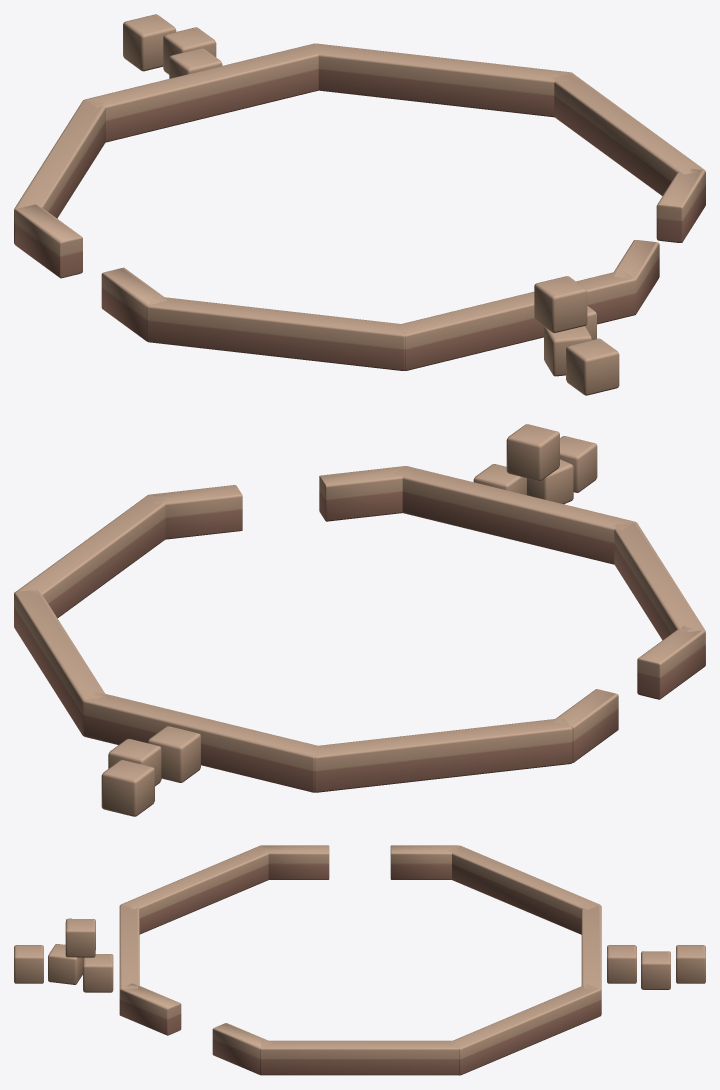
The model's file is Props.fbx.
3 views of the same model, one above another, from view 1: azimuth 30°, elevation 25°; view 2: azimuth 150°, elevation 25°; view 3: azimuth 270°, elevation 25° (orthographic). The views are drawn at different scales.
Parts seen in each view (by area): view 1: Box20-3_1 (8), Box20-3_1 (11), Box20-3_1 (7), Box20-3_1 (6), Box20-3_1 (5), Box20-3_1 (9), Box20-3_1 (14), Box20-3_1 (12), Box20-3_1 (13), Box1-5, Box1-5 (4), Box1-5 (1) (+4 smaller); view 2: Box20-3_1 (9), Box20-3_1 (6), Box20-3_1 (7), Box20-3_1 (5), Box20-3_1 (11), Box20-3_1 (8), Box20-3_1 (10), Box20-3_1 (12), Box20-3_1 (13), Box20-3_1 (14), Box1-5 (1), Box1-5 (4) (+5 smaller); view 3: Box20-3_1 (5), Box20-3_1 (11), Box20-3_1 (9), Box20-3_1 (8), Box20-3_1 (10), Box20-3_1 (13), Box20-3_1 (14), Box20-3_1 (12), Box20-3_1 (6), Box20-3_1 (7), Box1-5 (4), Box1-5 (3) (+5 smaller).
Boxes of the visible parts, left/top/right/bottom form: Box20-3_1 (8): left=146, top=297, right=404, bottom=370; Box20-3_1 (11): left=310, top=43, right=572, bottom=117; Box20-3_1 (7): left=84, top=43, right=324, bottom=142; Box20-3_1 (6): left=395, top=271, right=636, bottom=370; Box20-3_1 (5): left=552, top=73, right=704, bottom=195; Box20-3_1 (9): left=14, top=100, right=105, bottom=244; Box20-3_1 (14): left=15, top=204, right=82, bottom=278; Box20-3_1 (12): left=656, top=168, right=705, bottom=242; Box20-3_1 (13): left=101, top=267, right=167, bottom=341; Box1-5: left=566, top=338, right=619, bottom=395; Box1-5 (4): left=534, top=276, right=587, bottom=332; Box1-5 (1): left=123, top=14, right=176, bottom=71; Box20-3_1 (9): left=310, top=718, right=572, bottom=792; Box20-3_1 (6): left=395, top=466, right=635, bottom=564; Box20-3_1 (7): left=83, top=692, right=324, bottom=792; Box20-3_1 (5): left=16, top=495, right=167, bottom=618; Box20-3_1 (11): left=14, top=589, right=105, bottom=735; Box20-3_1 (8): left=614, top=522, right=705, bottom=665; Box20-3_1 (10): left=319, top=466, right=411, bottom=521; Box20-3_1 (12): left=149, top=485, right=242, bottom=539; Box20-3_1 (13): left=637, top=625, right=705, bottom=699; Box20-3_1 (14): left=553, top=689, right=618, bottom=762; Box1-5 (1): left=101, top=760, right=154, bottom=816; Box1-5 (4): left=506, top=424, right=559, bottom=480; Box20-3_1 (5): left=260, top=1040, right=458, bottom=1075; Box20-3_1 (11): left=448, top=984, right=601, bottom=1075; Box20-3_1 (9): left=449, top=845, right=600, bottom=934; Box20-3_1 (8): left=121, top=845, right=272, bottom=934; Box20-3_1 (10): left=119, top=983, right=181, bottom=1035; Box20-3_1 (13): left=261, top=845, right=329, bottom=879; Box20-3_1 (14): left=390, top=845, right=458, bottom=879; Box20-3_1 (12): left=212, top=1023, right=272, bottom=1075; Box20-3_1 (6): left=119, top=905, right=139, bottom=1015; Box20-3_1 (7): left=581, top=905, right=601, bottom=1014; Box1-5 (4): left=65, top=918, right=95, bottom=957; Box1-5 (3): left=83, top=954, right=113, bottom=992.
Bounding box in the file's own units: 24.07 × 3 × 34.5.
